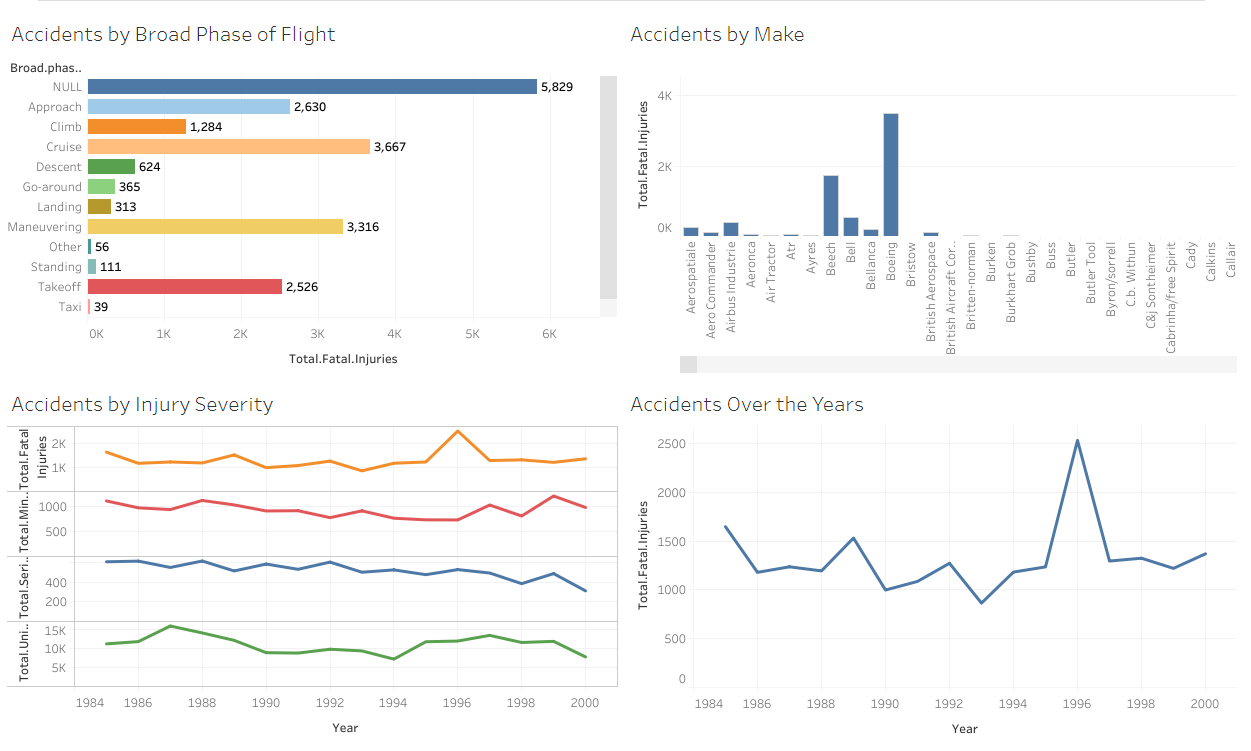

The page's visual inventory and layout, read from the dashboard file:
{"tool":"tableau","page":{"name":"Dashboard 1","canvas":[1000,1000],"units":"permille","ordinal":0},"visuals":[{"type":"worksheet","title":"Accidents by Broad Phase of Flight","mark":"Automatic","rows":["Broad.phase.of.flight"],"cols":["Total.Fatal.Injuries"],"box":[6.1,10.7,493.9,489.3]},{"type":"worksheet","title":"Accidents by Make","mark":"Automatic","rows":["Total.Fatal.Injuries"],"cols":["Make"],"box":[500,10.7,493.9,489.3]},{"type":"worksheet","title":"Accidents by Injury Severity","mark":"Automatic","rows":["Total.Fatal.Injuries","Total.Minor.Injuries","Total.Serious.Injuries","Total.Uninjured"],"cols":["Year"],"box":[6.1,500,493.9,489.3]},{"type":"worksheet","title":"Accidents Over the Years","mark":"Automatic","rows":["Total.Fatal.Injuries"],"cols":["Year"],"box":[500,500,493.9,489.3]}]}

Visuals, with their boxes on the dashboard's canvas, which has no fixed pixel size, in thousandths of its width and height (x1, y1, x2, y2). These are canvas units, not pixel positions in the 1251x751 screenshot, which may show the page scaled, cropped or inside an application window:
"Accidents by Broad Phase of Flight" worksheet: bbox(6, 11, 500, 500)
"Accidents by Make" worksheet: bbox(500, 11, 994, 500)
"Accidents by Injury Severity" worksheet: bbox(6, 500, 500, 989)
"Accidents Over the Years" worksheet: bbox(500, 500, 994, 989)
